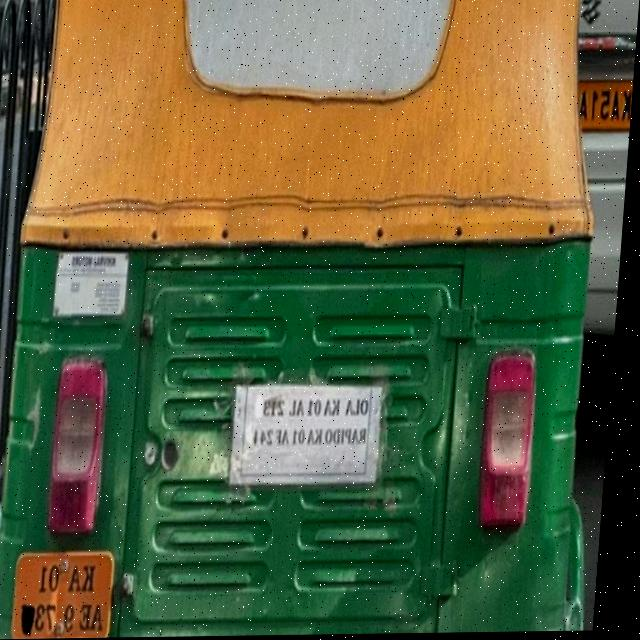plate: (14, 544, 132, 639)
